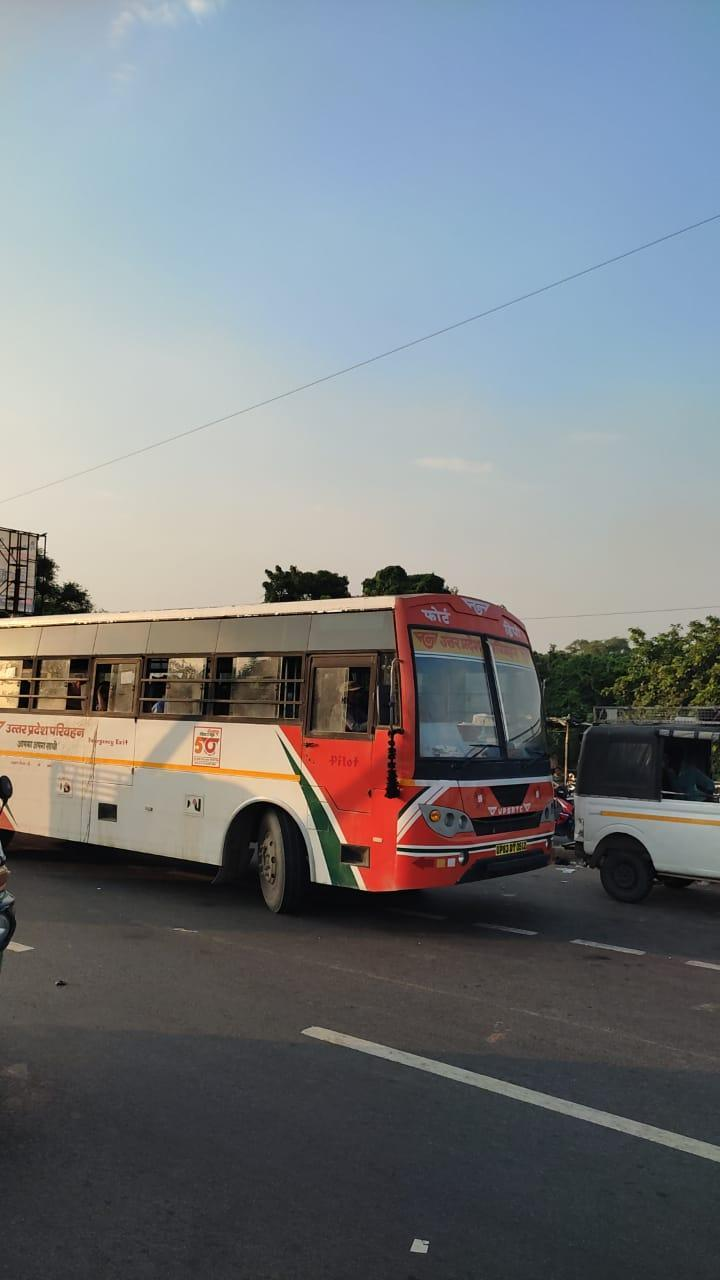Bus: (0, 594, 559, 916)
